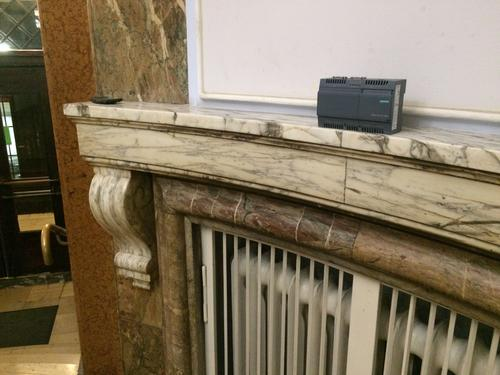iot2000: (316, 75, 408, 137)
